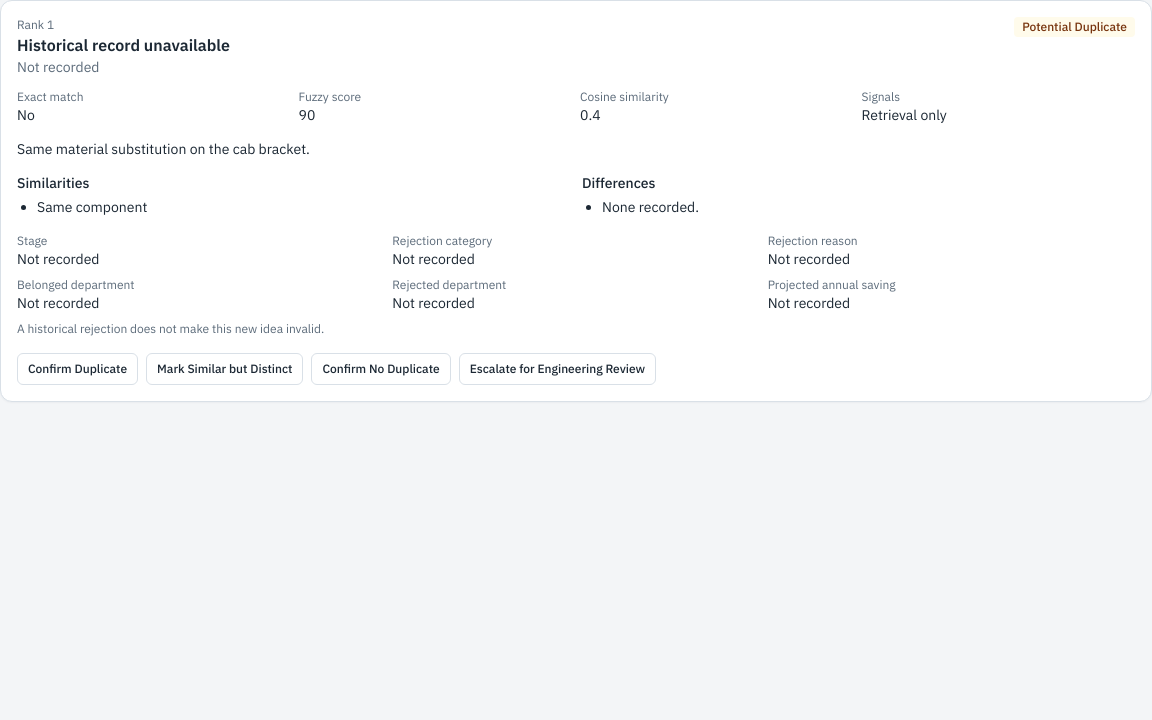
it: review actions require a rationale before confirmation
Click the button "Confirm Duplicate" at (78, 369), box x1=17 y1=353 x2=138 y2=385
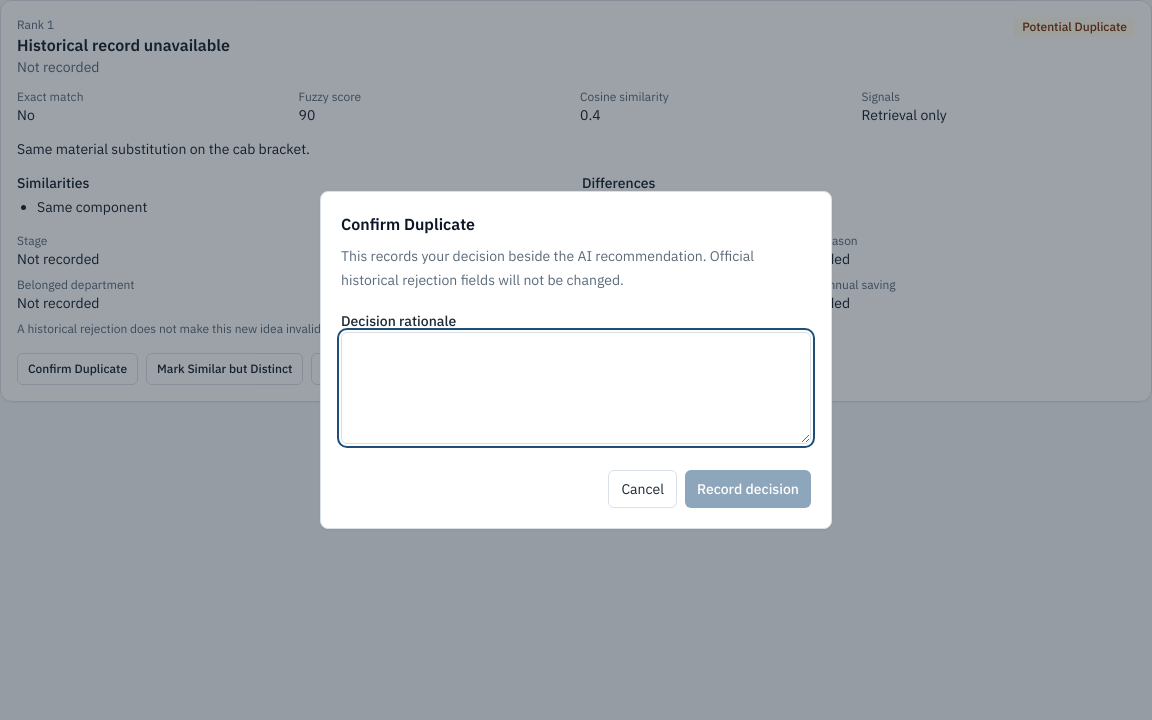
Result: the button "Record decision" is disabled at x1=685 y1=470 x2=811 y2=508
